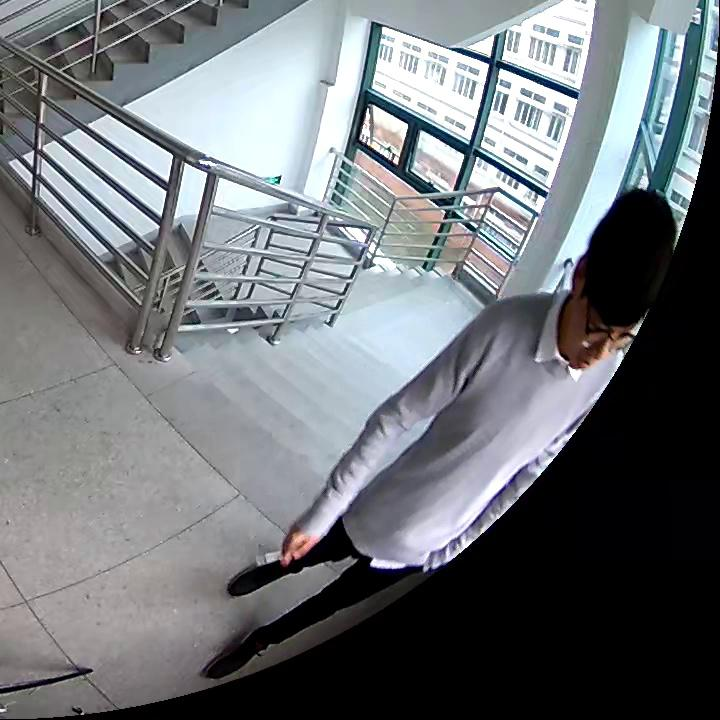handsmoke: (252, 527, 311, 564)
mouthwithoutsmoke: (554, 191, 672, 371)
